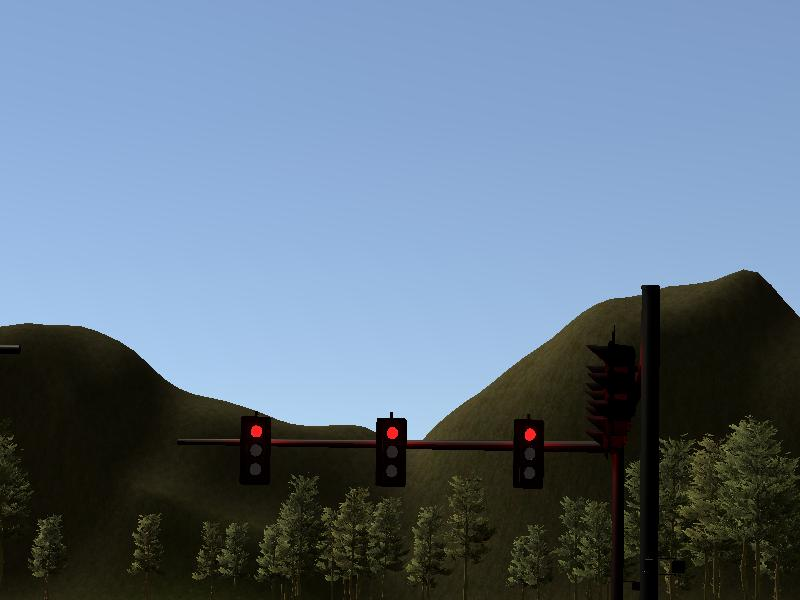Red: (375, 418, 406, 491), (240, 415, 272, 484), (513, 420, 544, 488)
